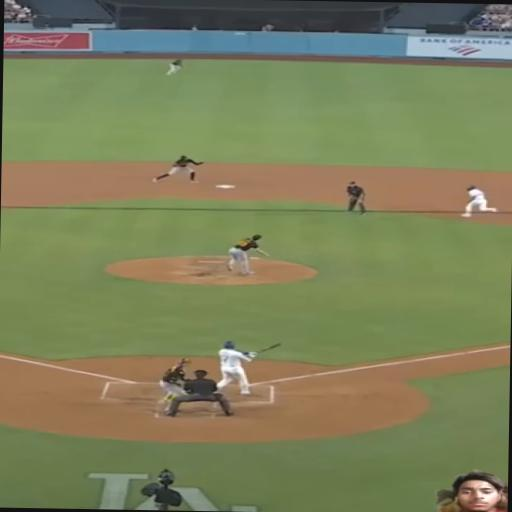bat: (258, 342, 282, 354)
